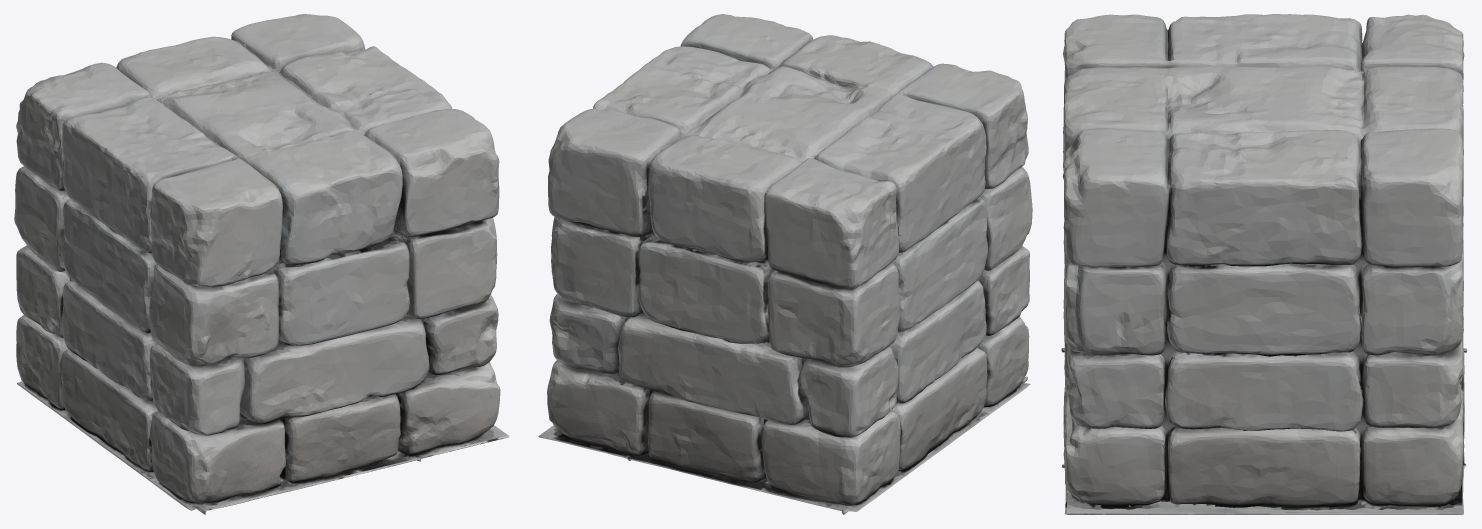
File: block.glb
3 renders of one model, left to right at view 1: azimuth 30°, elevation 25°; view 2: azimuth 150°, elevation 25°; view 3: azimuth 270°, elevation 25°, orthographic. The views are drawn at different scales.
Parts seen in each view (by area): view 1: textured_mesh.obj; view 2: textured_mesh.obj; view 3: textured_mesh.obj.
Boxes of the visible parts, x1,y1,x2,y2 form: textured_mesh.obj: (14, 14, 509, 514); textured_mesh.obj: (538, 14, 1032, 514); textured_mesh.obj: (1061, 14, 1467, 514).
Bounding box in the file's own units: 1.98 × 1.82 × 1.99.
Materials: 1 (1 with a texture image).
